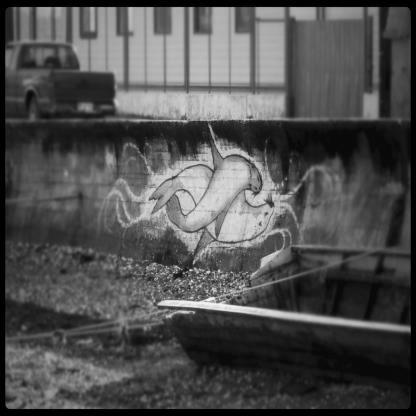truck: (1, 29, 125, 131)
